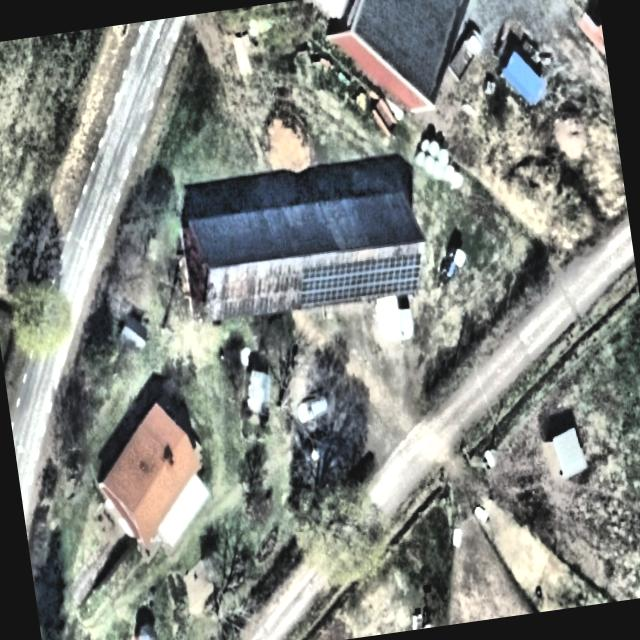roof_pv: (302, 250, 428, 316)
